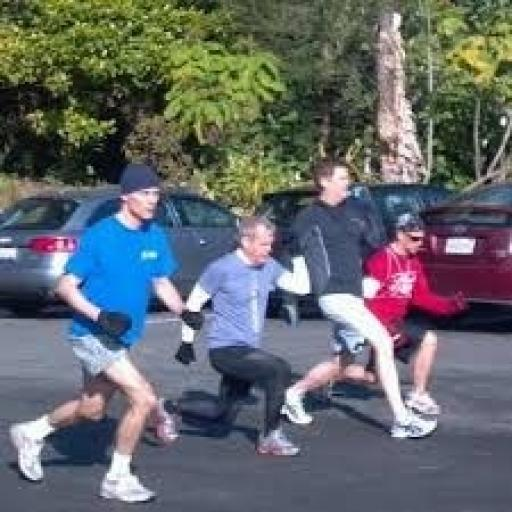running: (7, 160, 202, 508), (278, 154, 442, 444), (175, 212, 312, 460)
